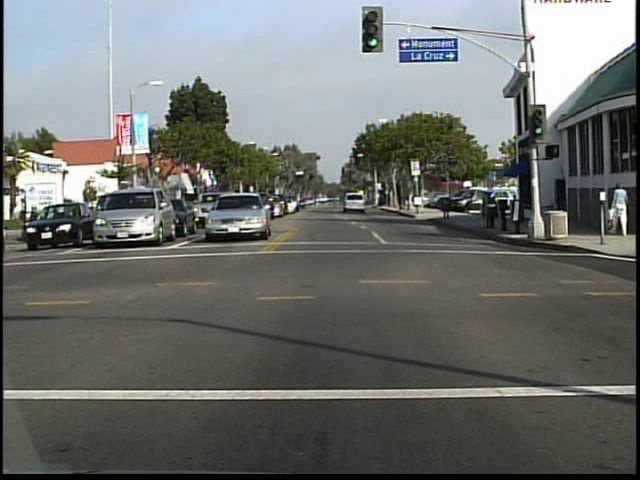person: (604, 176, 635, 242)
